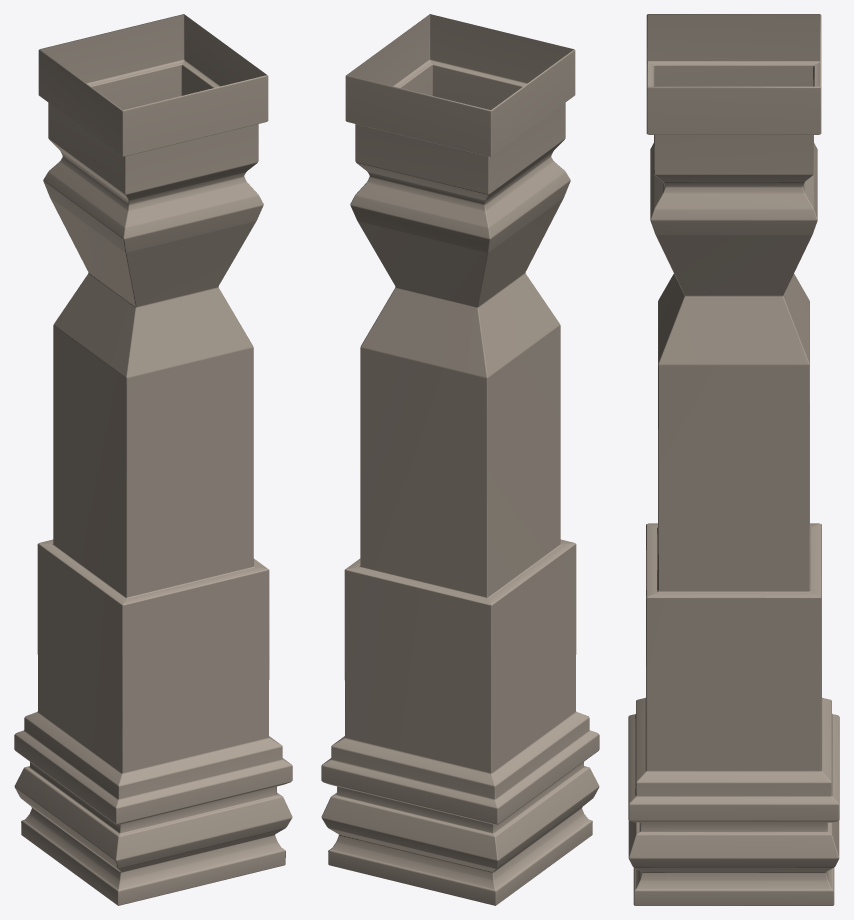
The model's file is BigColumnFinal.fbx.
3 views of the same model, side by side, from view 1: azimuth 30°, elevation 25°; view 2: azimuth 150°, elevation 25°; view 3: azimuth 270°, elevation 25° (orthographic). The views are drawn at different scales.
Parts seen in each view (by area): view 1: Big_Column3; view 2: Big_Column3; view 3: Big_Column3.
Part boxes in pixels (x1,y1,x2,y2): Big_Column3: [14, 14, 292, 905]; Big_Column3: [321, 14, 599, 905]; Big_Column3: [628, 14, 839, 905].
Size of the model in its own units: 4.03 by 17.14 by 4.03.
